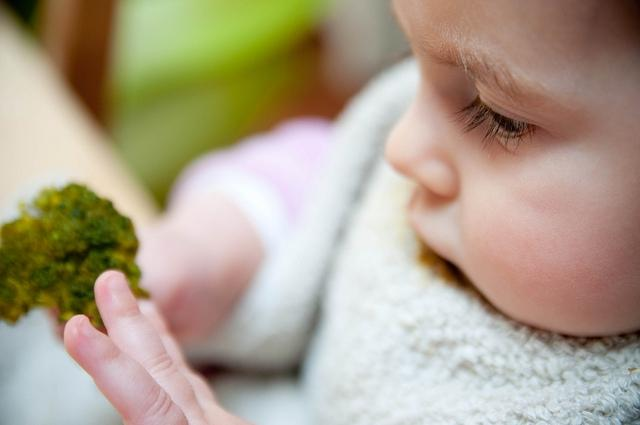broccoli: (0, 184, 152, 330)
